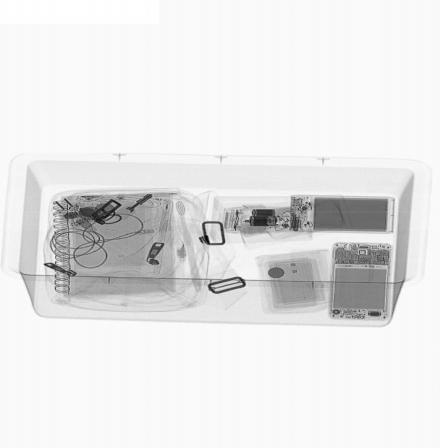Powerbank: (291, 193, 398, 235)
